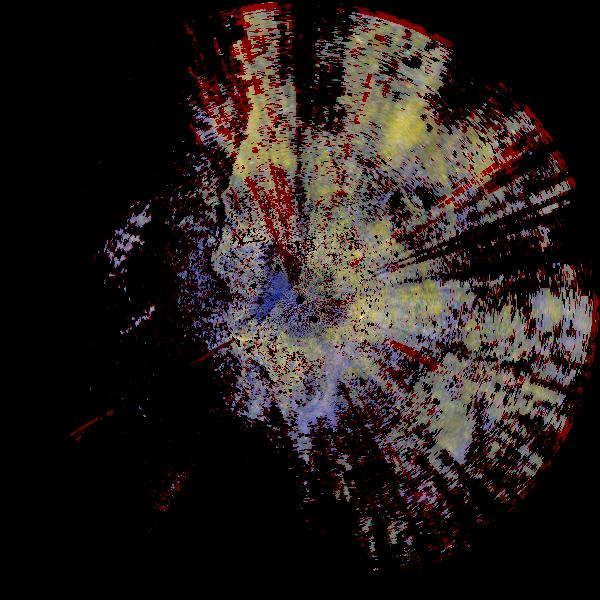roost: (243, 319, 360, 436)
